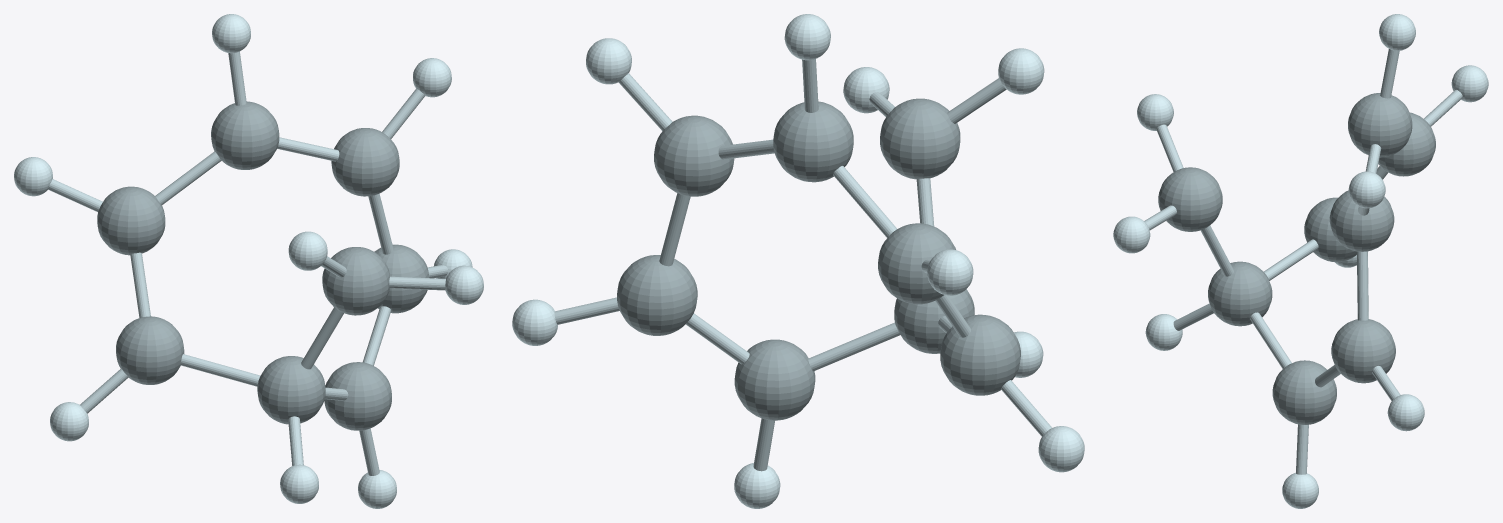
File: irc_step_210.glb
3 views of the same model, side by side, from view 1: azimuth 30°, elevation 25°; view 2: azimuth 150°, elevation 25°; view 3: azimuth 270°, elevation 25° (orthographic). The views are drawn at different scales.
Visible parts, largest first — view 1: Renderer Node; view 2: Renderer Node; view 3: Renderer Node.
Part boxes in pixels (box(x1,y1,x2,y2)): Renderer Node: box(14, 14, 483, 508); Renderer Node: box(512, 14, 1084, 508); Renderer Node: box(1113, 14, 1488, 508).
Size of the model in its own units: 5.27 by 5.35 by 4.06.
